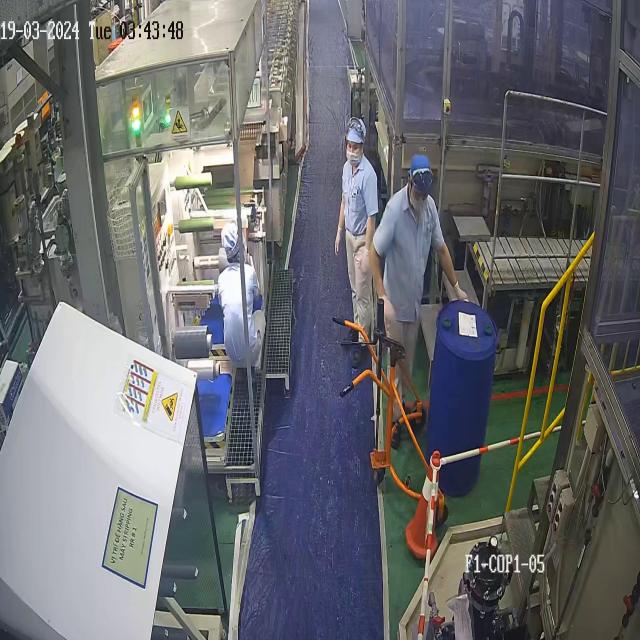Person: (369, 153, 468, 450), (334, 116, 379, 368), (217, 220, 263, 380)
